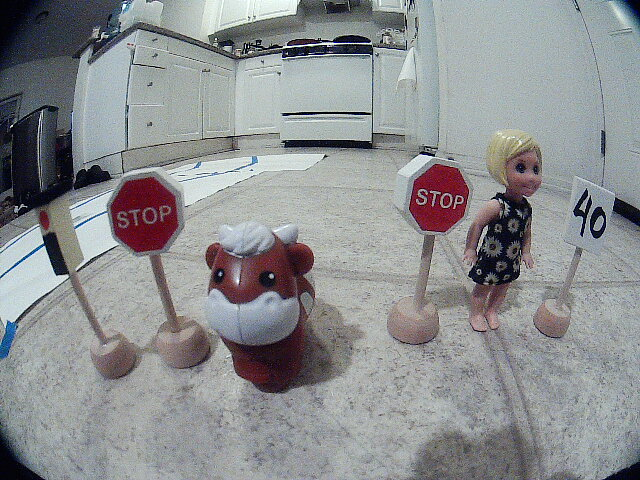Cow: (192, 218, 349, 410)
Person: (468, 124, 546, 349)
Red Traffic Light: (16, 186, 108, 290)
Speed Limit 40: (565, 164, 633, 262)
Stop Sign: (94, 160, 200, 271), (383, 146, 477, 248)
